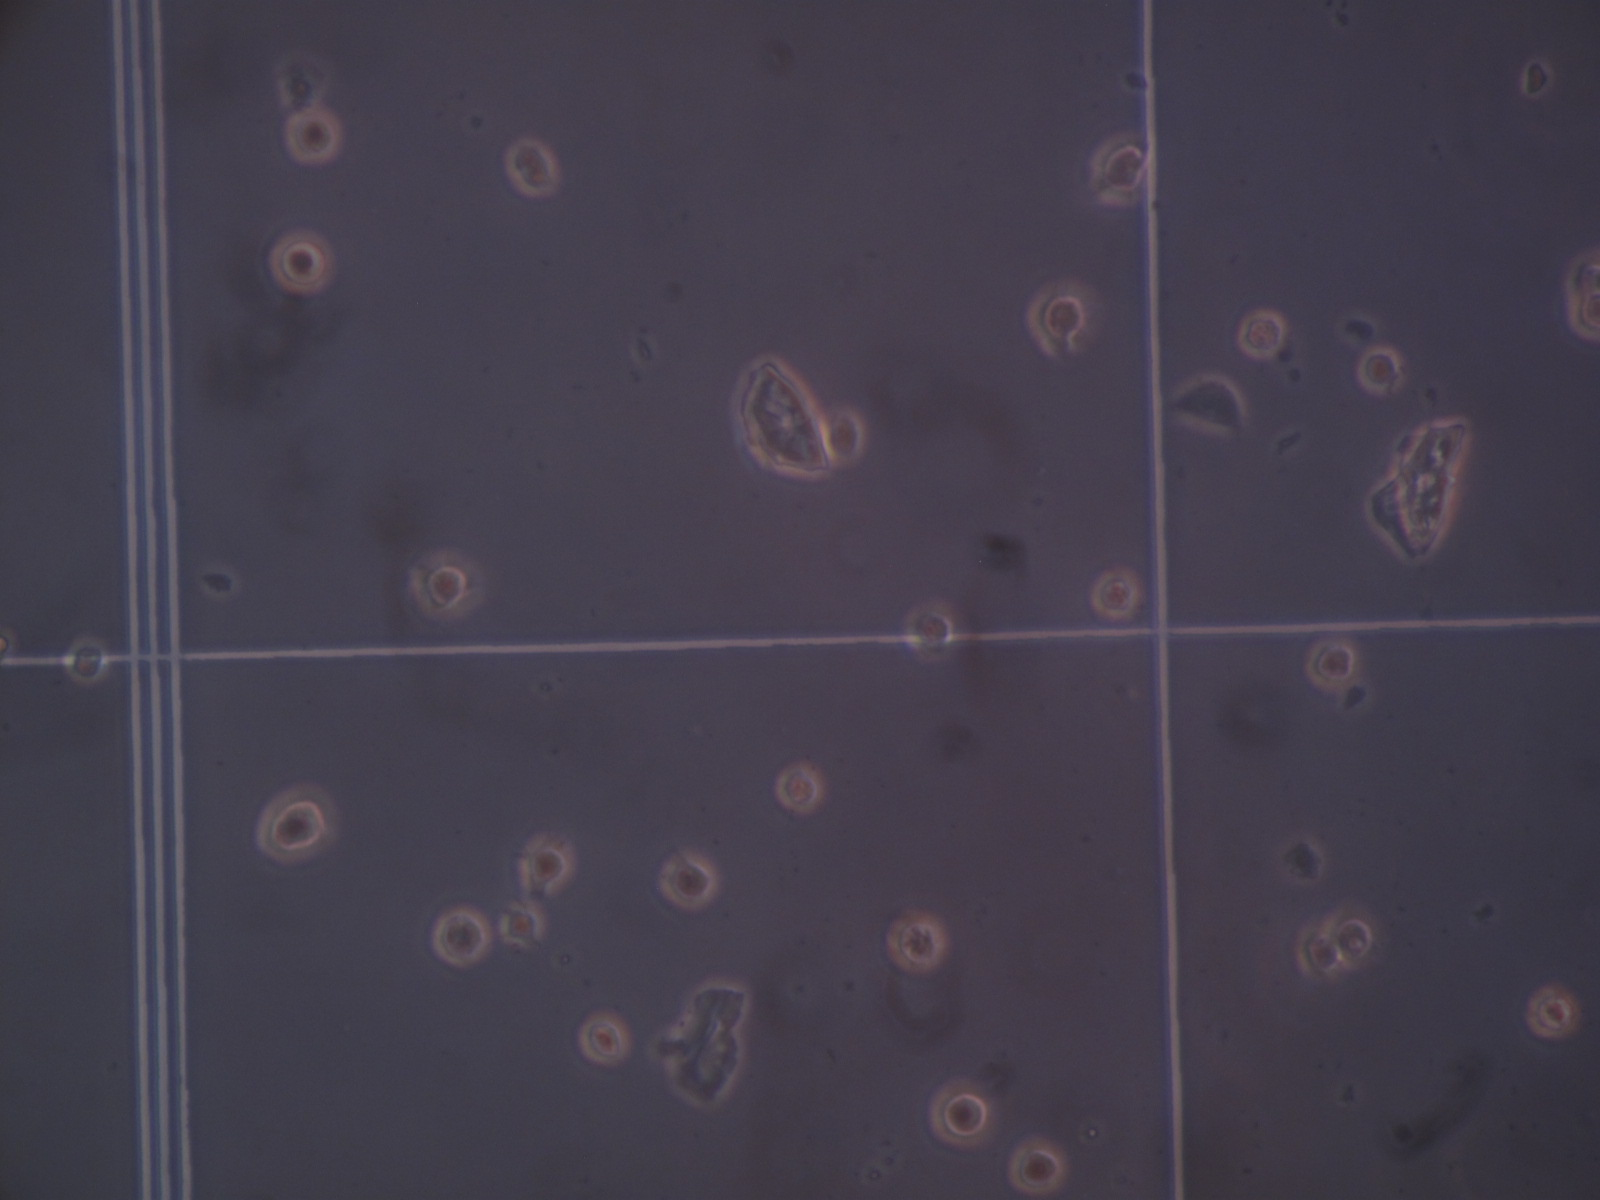hemo: (254, 783, 338, 863), (1026, 280, 1096, 355), (408, 550, 479, 620), (1089, 131, 1154, 207), (1172, 373, 1247, 436), (268, 229, 336, 296), (929, 1079, 993, 1150), (886, 913, 947, 974), (902, 600, 957, 663), (432, 908, 490, 967), (1008, 1138, 1067, 1195), (658, 853, 716, 910), (504, 137, 558, 198), (283, 108, 341, 164), (1304, 638, 1362, 692), (1323, 908, 1377, 964), (518, 836, 571, 891), (1526, 986, 1579, 1039), (578, 1012, 630, 1065), (1090, 568, 1141, 619), (1295, 925, 1343, 979), (775, 763, 824, 814), (1237, 309, 1286, 359), (825, 407, 866, 465), (63, 637, 110, 684), (1357, 347, 1401, 395), (501, 904, 544, 947), (1566, 289, 1600, 342), (1563, 252, 1600, 297), (1522, 59, 1553, 98), (1, 626, 16, 668)
